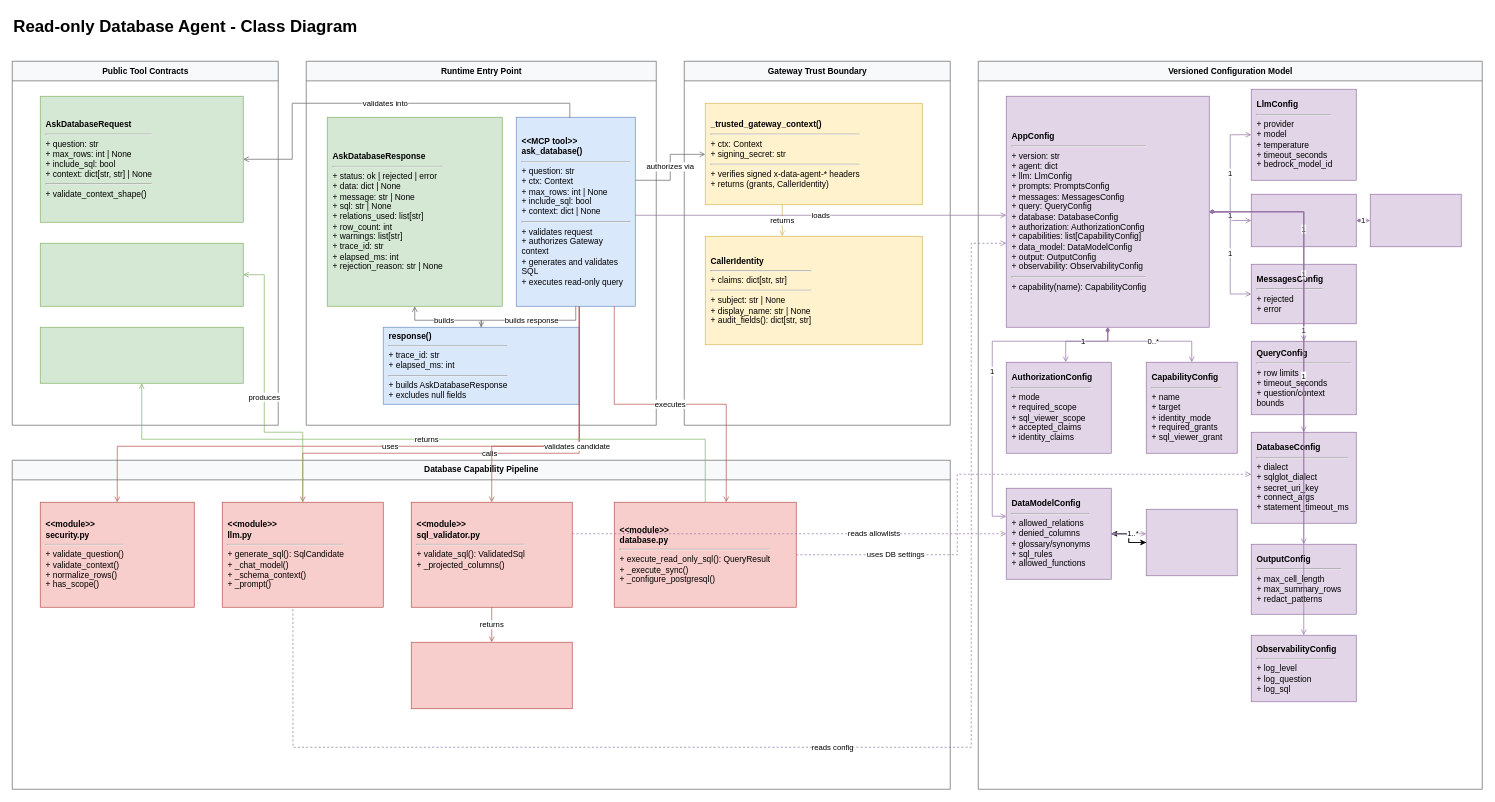
Image size: 1495x802. Some labels were removed from this diagram. Here are the shapes that lost their labels. From the top down, the centre of each, then its label:
At point 1303,220: "PromptsConfig + sql_generation".
At point 1415,220: "PromptTemplateConfig + system + user".
At point 141,274: "SqlCandidate + sql: str + assumptions: list[str]".
At point 141,355: "QueryResult + rows: list[dict[str, Any]]".
At point 1191,542: "RelationConfig + name + description + columns".
At point 491,675: "<<dataclass>> ValidatedSql + sql: str + relations_used: list[str]".
